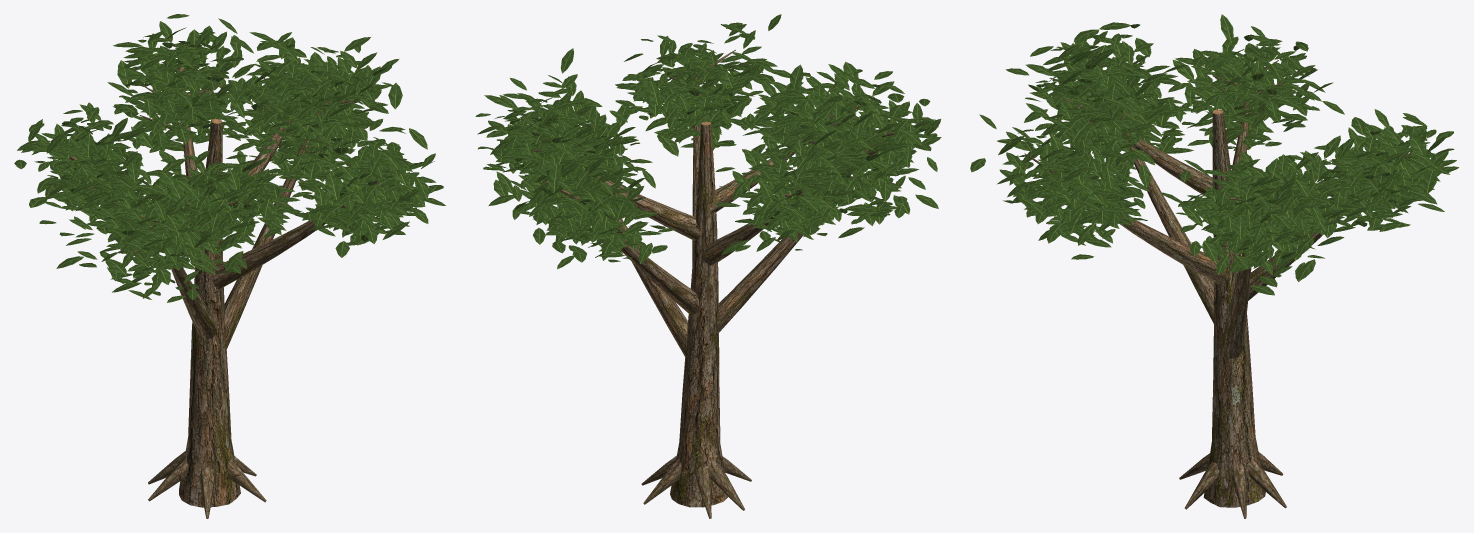
The model's file is buttress-1.obj.
3 renders of one model, left to right at view 1: azimuth 30°, elevation 25°; view 2: azimuth 150°, elevation 25°; view 3: azimuth 270°, elevation 25°, orthographic. The views are drawn at different scales.
Bounding box in the file's own units: 9.51 × 9.25 × 9.88.
Materials: 1 (1 with a texture image).
